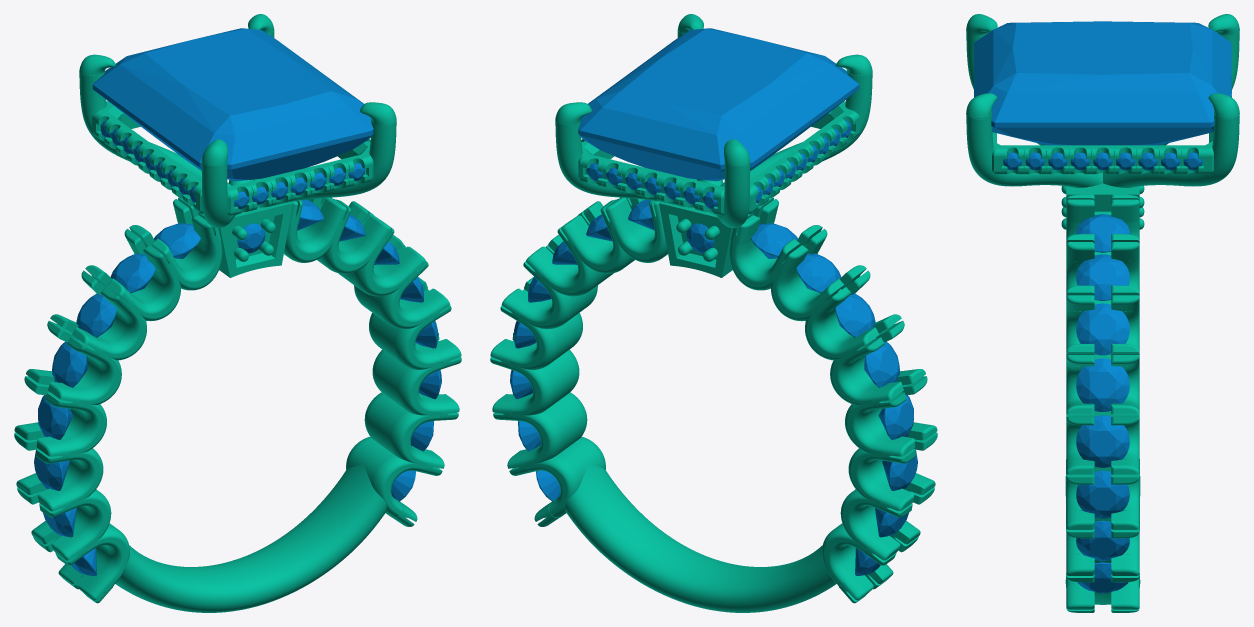
3 views of the same model, side by side, from view 1: azimuth 30°, elevation 25°; view 2: azimuth 150°, elevation 25°; view 3: azimuth 270°, elevation 25° (orthographic).
Parts seen in each view (by area): view 1: VR6931.3dm, Diamond_Radiant, Diamond_Round (×7); view 2: VR6931.3dm, Diamond_Radiant, Diamond_Round (×7); view 3: VR6931.3dm, Diamond_Radiant, Diamond_Round (×8).
Boxes of the visible parts, bbox=[...] form: VR6931.3dm: bbox=[14, 14, 461, 612]; Diamond_Radiant: bbox=[92, 28, 373, 181]; Diamond_Round (×7): bbox=[34, 223, 200, 537]; VR6931.3dm: bbox=[490, 14, 937, 612]; Diamond_Radiant: bbox=[578, 28, 859, 181]; Diamond_Round (×7): bbox=[751, 223, 917, 537]; VR6931.3dm: bbox=[966, 14, 1239, 612]; Diamond_Radiant: bbox=[974, 21, 1231, 145]; Diamond_Round (×8): bbox=[1076, 214, 1129, 593].
Bounding box in the file's own units: 2.38 × 2.92 × 1.35.
